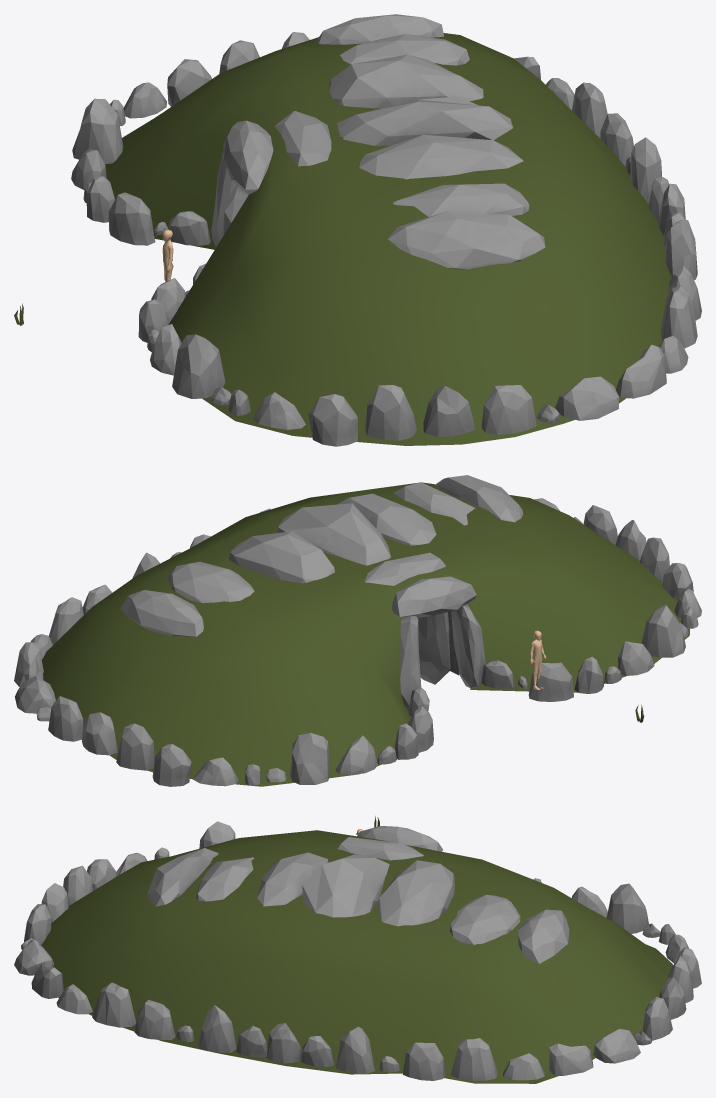
3 renders of one model, top to bottom at view 1: azimuth 30°, elevation 25°; view 2: azimuth 150°, elevation 25°; view 3: azimuth 270°, elevation 25°, orthographic. The views are drawn at different scales.
Parts seen in each view (by area): view 1: Plane.002, Dolmen; view 2: Plane.002, Dolmen, Body.002; view 3: Plane.002, Dolmen.
Boxes of the visible parts, bbox=[...] form: Plane.002: bbox=[105, 33, 671, 445]; Dolmen: bbox=[71, 14, 701, 446]; Plane.002: bbox=[41, 482, 689, 786]; Dolmen: bbox=[14, 475, 701, 786]; Body.002: bbox=[530, 630, 546, 690]; Plane.002: bbox=[41, 830, 672, 1083]; Dolmen: bbox=[14, 821, 701, 1080].
Bounding box in the file's own units: 16.2 × 4.61 × 19.08.
Materials: 4 (4 with a texture image).
